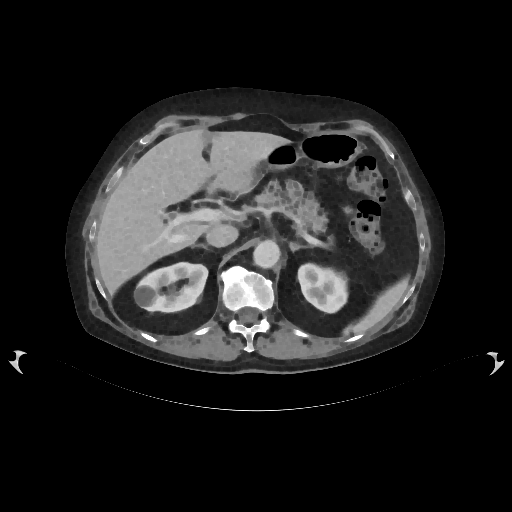Lesion: (134, 283, 159, 308)
